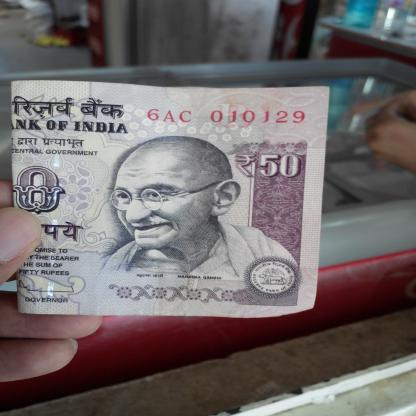Old50Front: (8, 80, 329, 318)
